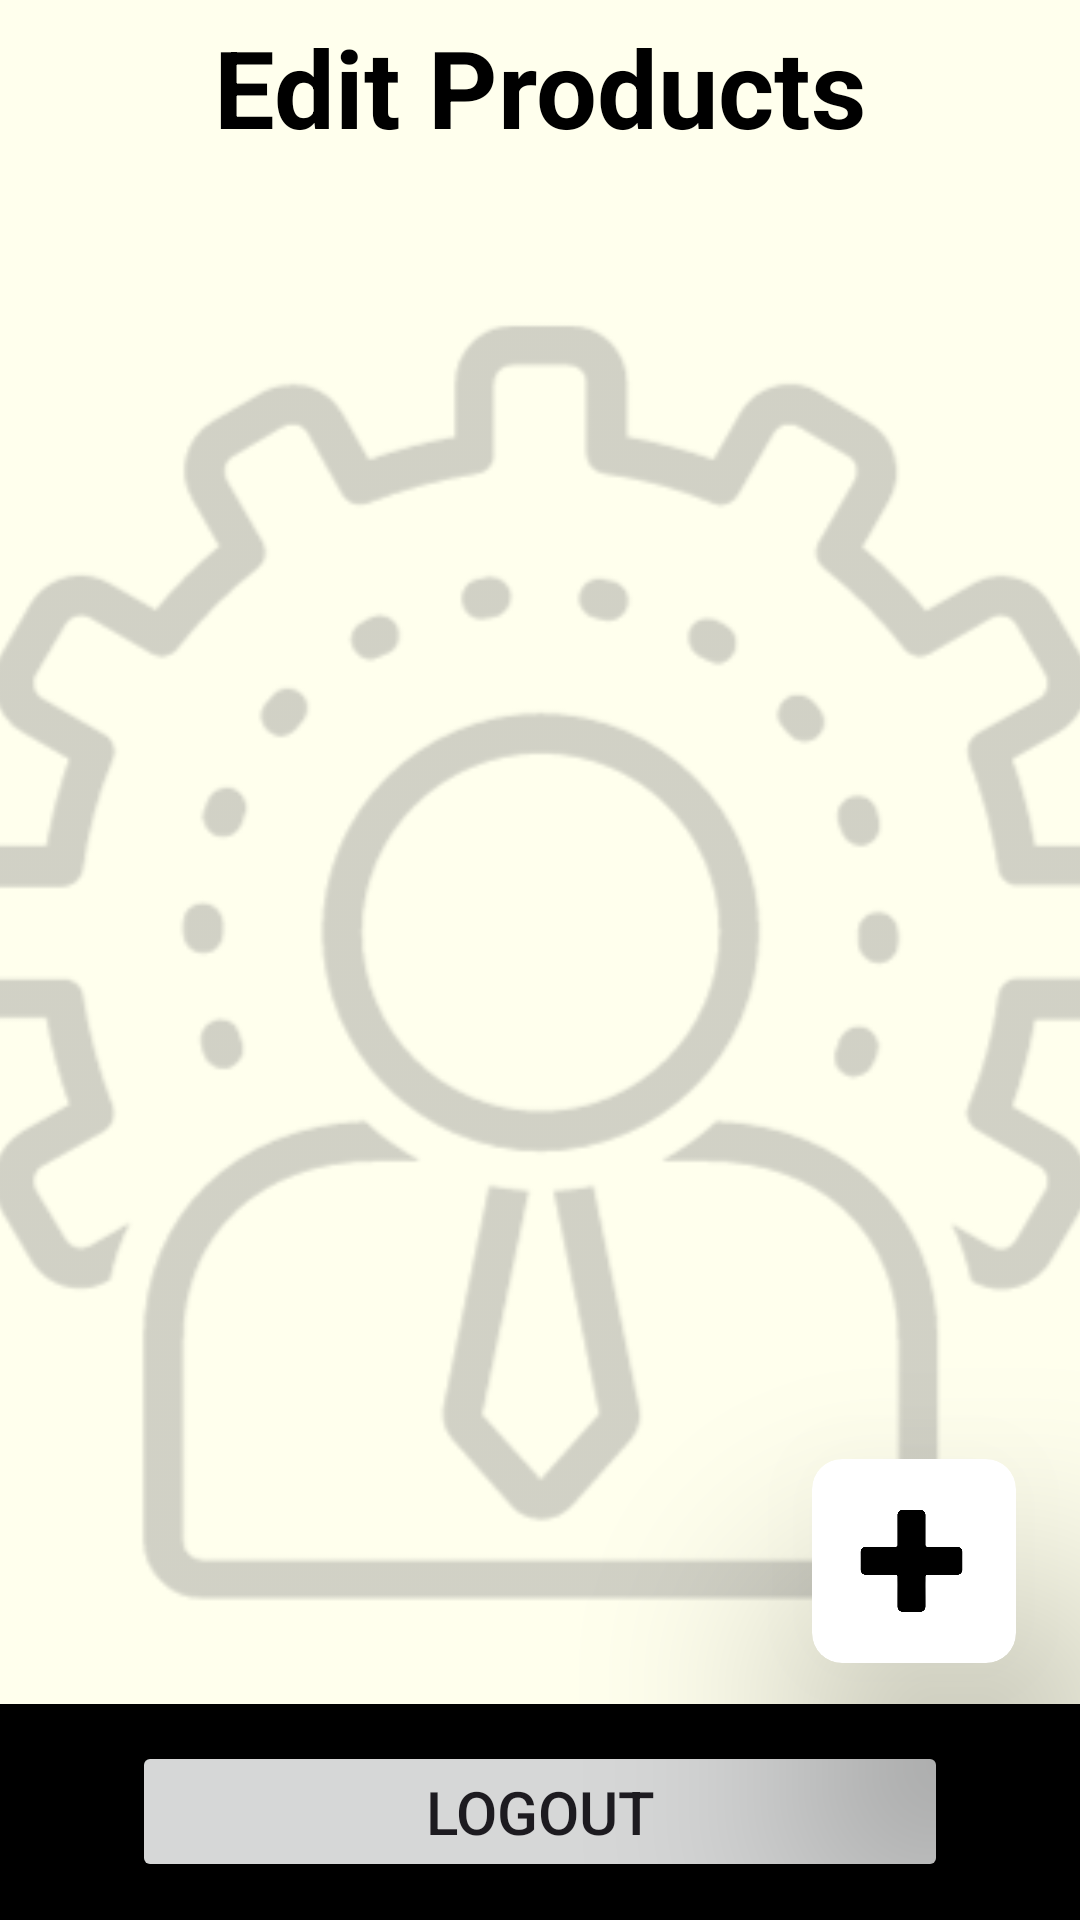

Named icons in this screenshot (1080*1920) and their bounding boxes, rect(x1, y1, x2, y2):
add: rect(860, 1510, 963, 1612)
